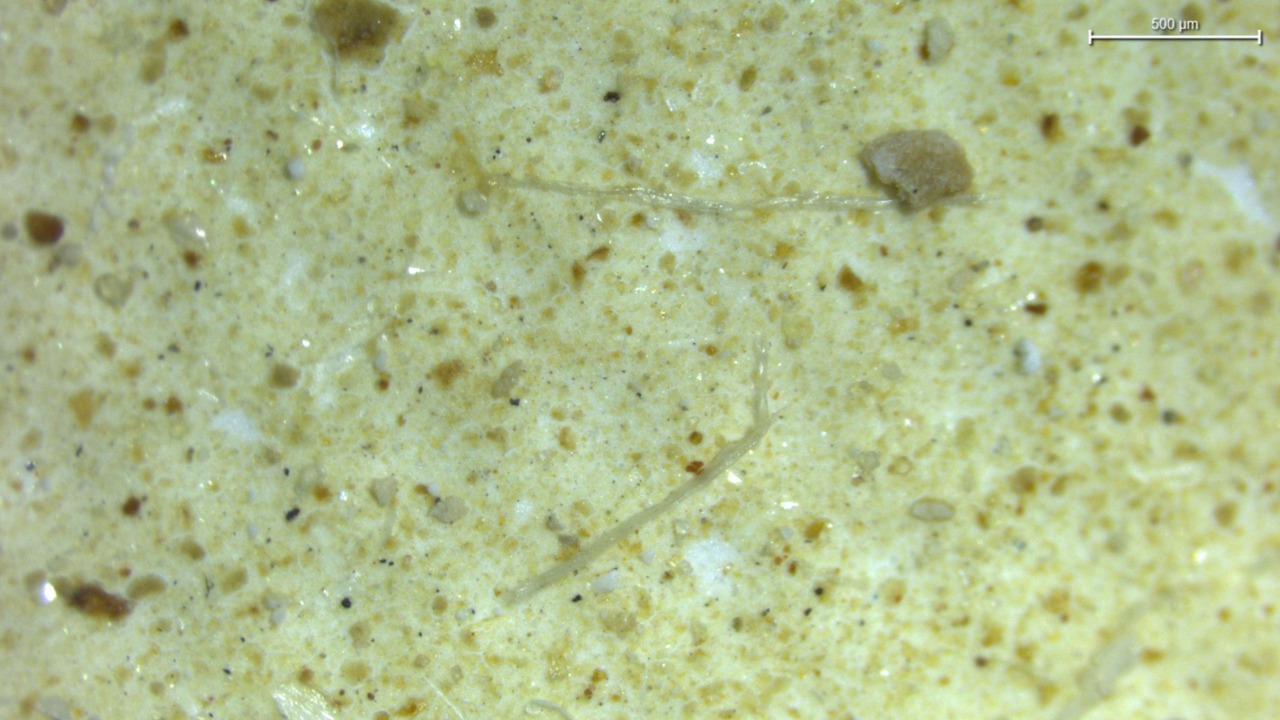microplastic_fragment: (861, 130, 972, 207), (909, 497, 954, 521), (430, 497, 467, 524), (370, 478, 398, 506), (457, 189, 488, 214)
